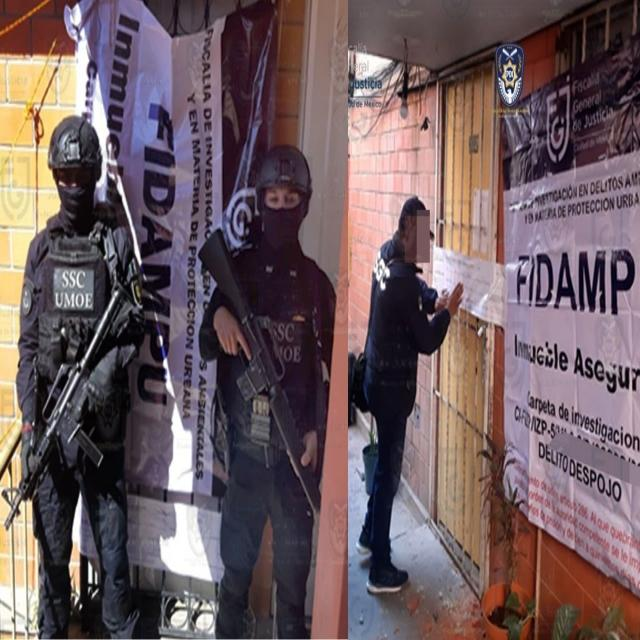stamps: (77, 0, 274, 577), (500, 41, 637, 593), (433, 249, 506, 327)
